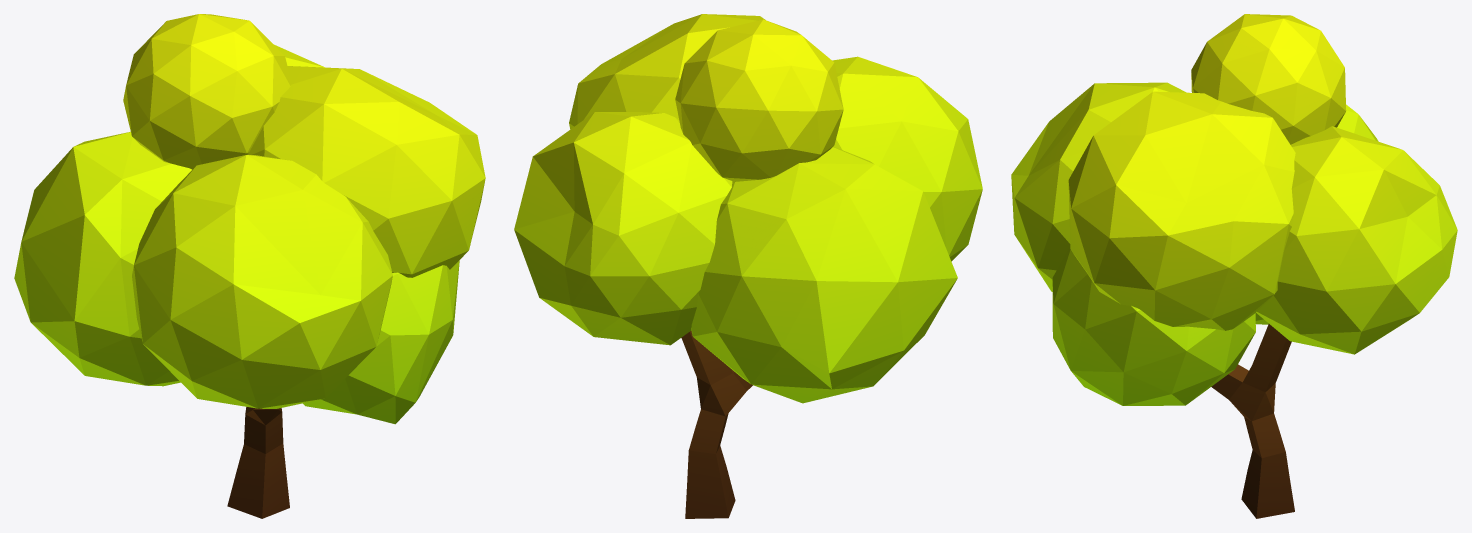
The model's file is city_Tree-1.glb.
3 views of the same model, side by side, from view 1: azimuth 30°, elevation 25°; view 2: azimuth 150°, elevation 25°; view 3: azimuth 270°, elevation 25° (orthographic). The views are drawn at different scales.
Parts seen in each view (by area): view 1: Object_1759; view 2: Object_1759; view 3: Object_1759.
Boxes of the visible parts, box(x1,y1,x2,y2) form: Object_1759: box(14, 14, 485, 518); Object_1759: box(514, 14, 982, 518); Object_1759: box(1011, 14, 1457, 518).
Bounding box in the file's own units: 8.2 × 10.29 × 8.94.
Materials: 1 (1 with a texture image).
